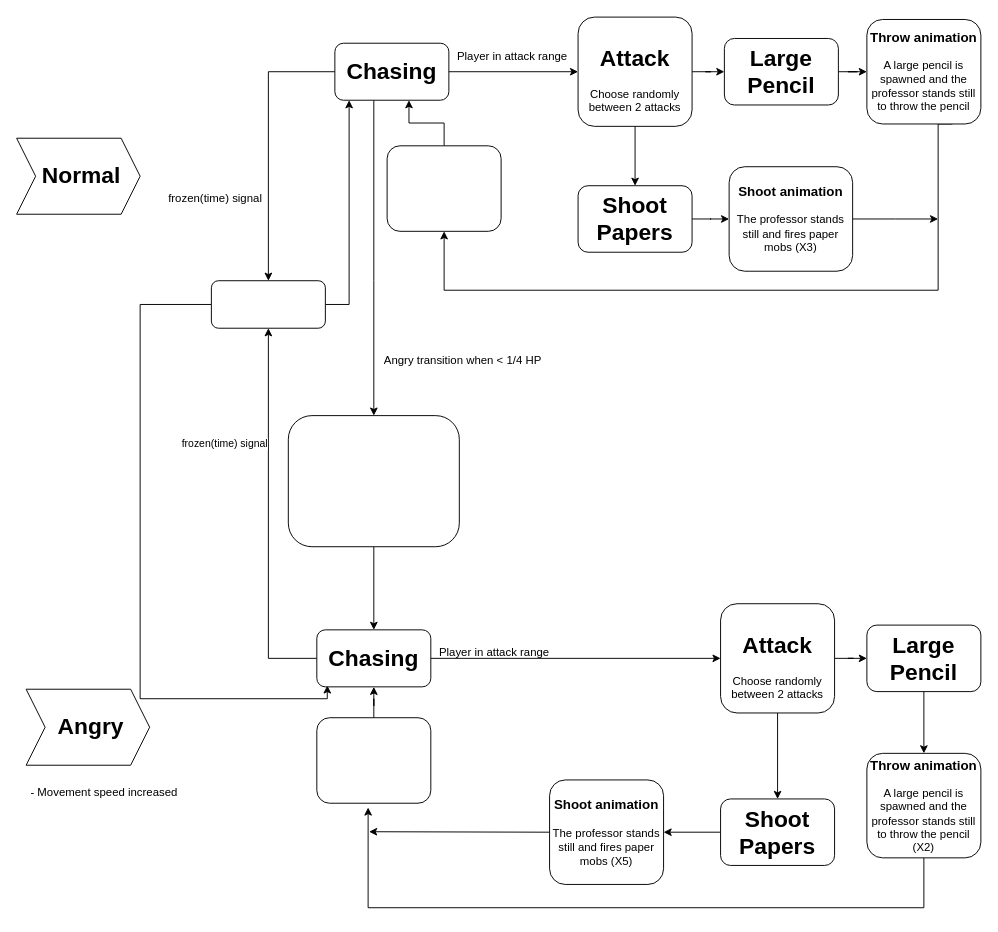
Image size: 998x932. Some labels were removed from this diagram. The centre of each missing label's shape, as x and y in pixels:
Chasing Cooldown Chasing but cannot attack for 10s: pixel 443 188
Chasing Cooldown Chasing but cannot attack for 5s: pixel 373 760
Frozen: pixel 267 304
Transition Animation - Changes in appearance: pixel 373 481
